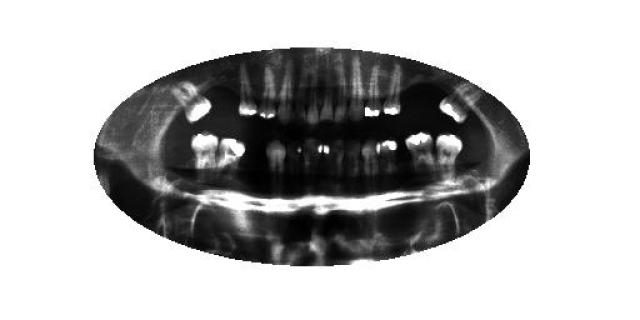Fillings: (438, 81, 482, 124), (407, 131, 432, 175), (258, 64, 278, 118), (383, 67, 405, 116), (363, 64, 382, 118), (376, 138, 399, 178)
